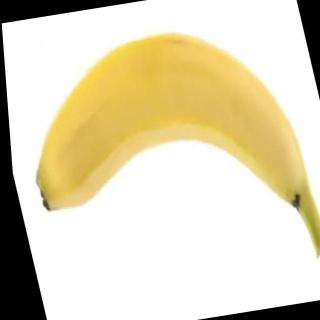banana: (3, 13, 320, 303)
